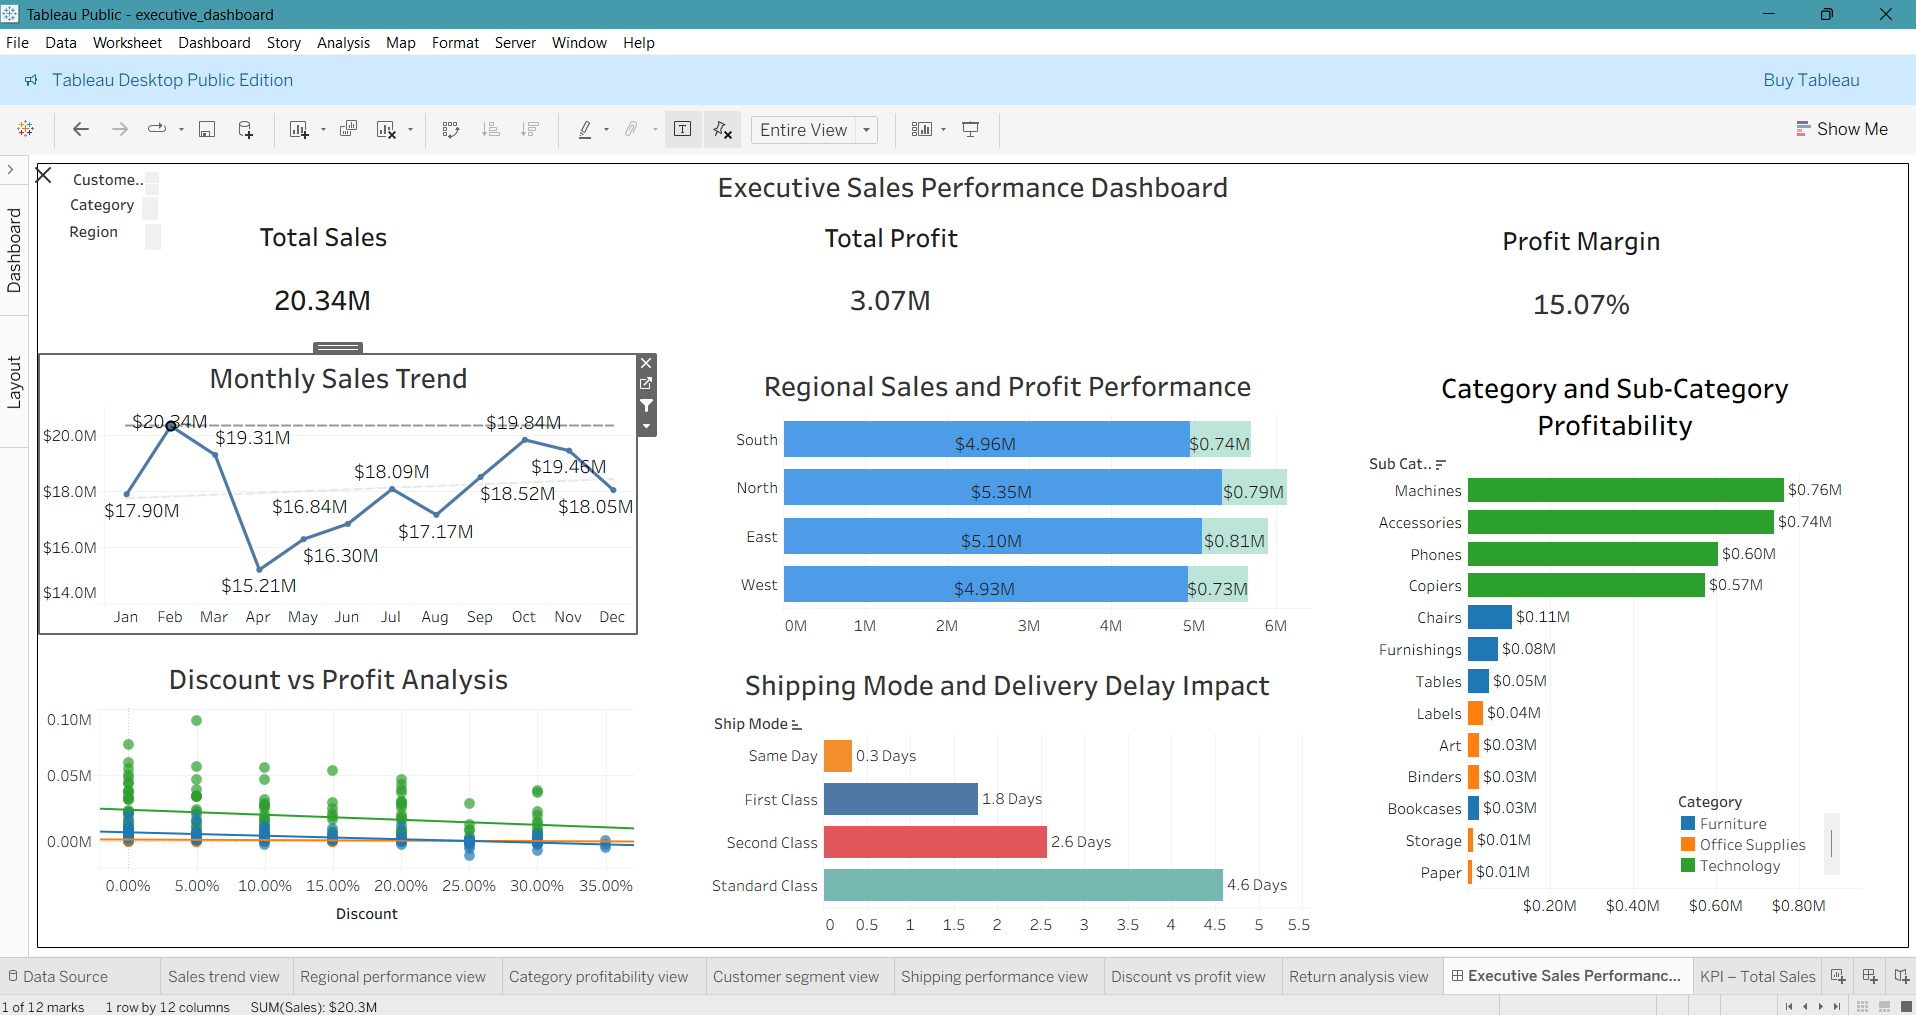

The dashboard page shown, as its layout file describes it:
{"tool":"tableau","page":{"name":"Executive Sales Performance Dashboard","canvas":[1000,1000],"units":"permille","ordinal":0},"visuals":[{"type":"dashboard-object","box":[0,9.9,14.9,29.7]},{"type":"title","box":[4.8,11.2,990.5,56.2]},{"type":"filter","title":"Sales trend view","param":"[federated.00t6yae0oo85561c1nmbn0elvlnn].[none:customer_segment:nk]","box":[23.3,17.3,45.6,32.2]},{"type":"filter","title":"Sales trend view","param":"[federated.00t6yae0oo85561c1nmbn0elvlnn].[none:category:nk]","box":[21.7,48.3,46.6,33.4]},{"type":"worksheet","title":"KPI – Total Sales","mark":"Automatic","box":[93.8,75.5,124.2,148.5]},{"type":"worksheet","title":"KPI - Total Profit","mark":"Automatic","box":[394.4,75.5,124.2,148.5]},{"type":"worksheet","title":"KPI - Profit Margin","mark":"Automatic","box":[760.2,80.5,124.2,148.5]},{"type":"filter","title":"Sales trend view","param":"[federated.00t6yae0oo85561c1nmbn0elvlnn].[none:region:nk]","box":[21.2,82.9,48.7,35.9]},{"type":"worksheet","title":"Sales trend view","mark":"Line","rows":["sales"],"cols":["order_date"],"box":[5.6,250,316.2,346.5]},{"type":"worksheet","title":"Regional performance view","mark":"Bar","rows":["region"],"box":[355.9,259.9,324.8,342.8]},{"type":"worksheet","title":"Category profitability view","mark":"Automatic","rows":["sub_category"],"cols":["profit"],"box":[707.5,262.4,264.6,690.6]},{"type":"worksheet","title":"Discount vs profit view","mark":"Circle","rows":["profit"],"cols":["discount"],"box":[5.6,625,316.2,342.8]},{"type":"worksheet","title":"Shipping performance view","mark":"Automatic","rows":["ship_mode"],"cols":["delivery_days"],"box":[355.9,632.4,324.8,342.8]},{"type":"legend","title":"Category profitability view","param":"[federated.00t6yae0oo85561c1nmbn0elvlnn].[none:category:nk]","box":[873.3,794.6,87,105.2]}]}

Visuals, with their boxes on the dashboard's canvas, which has no fixed pixel size, in thousandths of its width and height (x1, y1, x2, y2). These are canvas units, not pixel positions in the 1916x1015 screenshot, which may show the page scaled, cropped or inside an application window:
dashboard-object: [left=0, top=10, right=15, bottom=40]
title: [left=5, top=11, right=995, bottom=67]
"Sales trend view" filter: [left=23, top=17, right=69, bottom=50]
"Sales trend view" filter: [left=22, top=48, right=68, bottom=82]
"KPI – Total Sales" worksheet: [left=94, top=76, right=218, bottom=224]
"KPI - Total Profit" worksheet: [left=394, top=76, right=519, bottom=224]
"KPI - Profit Margin" worksheet: [left=760, top=80, right=884, bottom=229]
"Sales trend view" filter: [left=21, top=83, right=70, bottom=119]
"Sales trend view" worksheet (Line marks): [left=6, top=250, right=322, bottom=596]
"Regional performance view" worksheet (Bar marks): [left=356, top=260, right=681, bottom=603]
"Category profitability view" worksheet: [left=708, top=262, right=972, bottom=953]
"Discount vs profit view" worksheet (Circle marks): [left=6, top=625, right=322, bottom=968]
"Shipping performance view" worksheet: [left=356, top=632, right=681, bottom=975]
"Category profitability view" legend: [left=873, top=795, right=960, bottom=900]
